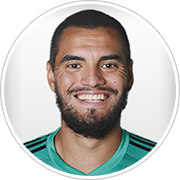smile: (71, 91, 110, 106)
